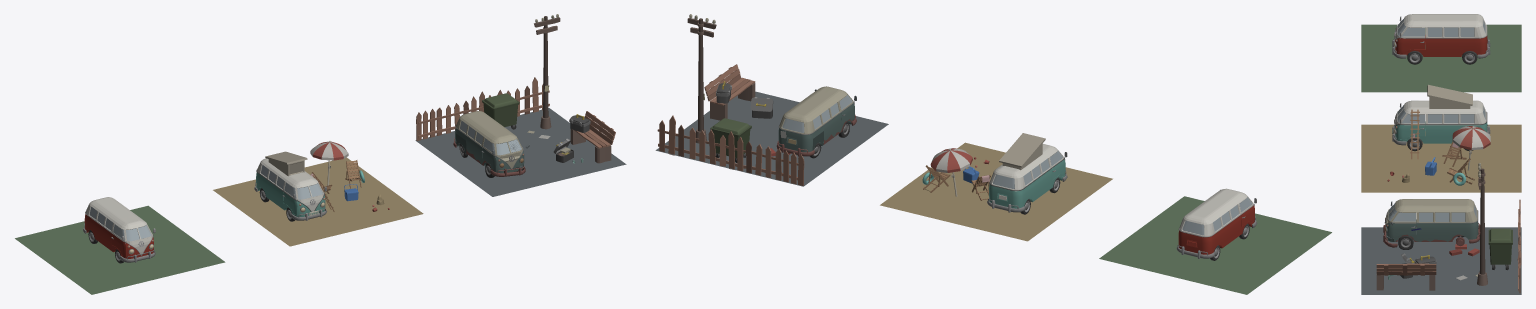
The model's file is first-five.fbx.
3 renders of one model, left to right at view 1: azimuth 30°, elevation 25°; view 2: azimuth 150°, elevation 25°; view 3: azimuth 270°, elevation 25°, orthographic. The views are drawn at different scales.
Visible parts, largest first — view 1: pPlane1, plane, pPlane7, polySurface572, polySurface212, polySurface721, polySurface703, polySurface549, pCube106, polySurface225, pCylinder51; view 2: pPlane1, plane, pPlane7, polySurface212, polySurface572, polySurface549, polySurface703, polySurface225, polySurface721, polySurface594, pCylinder51, pCube106 (+2 smaller); view 3: plane, pPlane1, pPlane7, polySurface212, polySurface572, polySurface549, polySurface721, polySurface225, polySurface703, polySurface594, pCube106, pCylinder51 (+30 smaller).
Part boxes in pixels (x1,y1,x2,y2): pPlane1: (15,205,225,294); plane: (213,157,423,246); pPlane7: (415,108,626,196); polySurface572: (85,197,152,254); polySurface212: (456,111,522,168); polySurface721: (257,158,323,211); polySurface703: (256,172,325,215); polySurface549: (84,214,153,257); pCube106: (482,97,519,127); polySurface225: (455,128,524,171); pCylinder51: (543,16,548,118); pPlane1: (1099,196,1331,294); plane: (880,142,1112,241); pPlane7: (655,91,888,186); polySurface212: (779,86,853,134); polySurface572: (1179,188,1252,236); polySurface549: (1178,215,1253,254); polySurface703: (989,169,1064,208); polySurface225: (778,113,852,152); polySurface721: (990,144,1063,191); polySurface594: (999,133,1045,167); pCylinder51: (698,18,703,131); pCube106: (710,121,751,157); plane: (1361,124,1521,192); pPlane1: (1361,24,1521,92); pPlane7: (1361,227,1521,294); polySurface212: (1385,199,1477,224); polySurface572: (1395,14,1486,38); polySurface549: (1395,35,1487,56); polySurface721: (1395,100,1486,125); polySurface225: (1386,219,1478,241); polySurface703: (1395,121,1487,143); polySurface594: (1427,84,1472,105); pCube106: (1488,229,1512,264); pCylinder51: (1479,168,1485,274).
Bounding box in the file's own units: 37.64 × 7.62 × 9.43.
